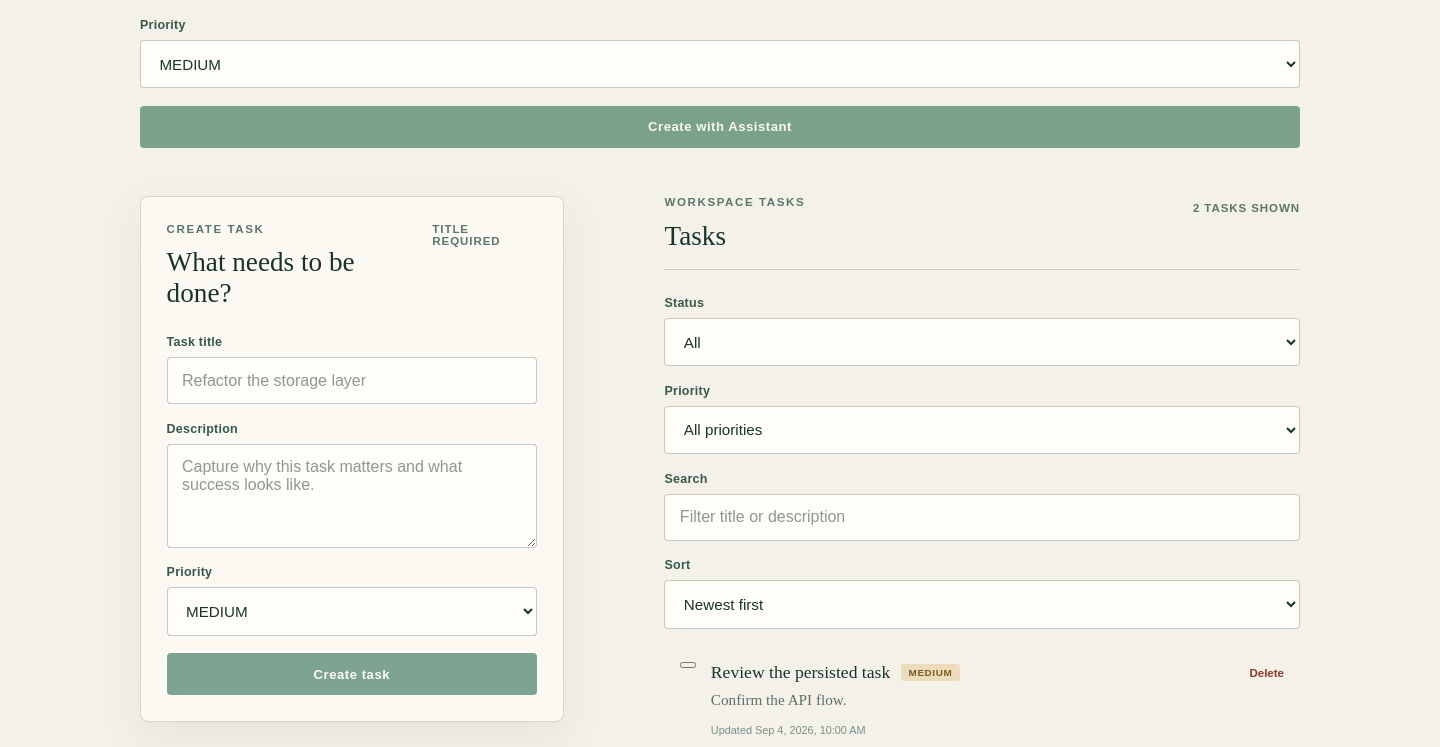
it: task workspace › sends filter, search, and sort changes to the backend
This screenshot has width=1440, height=747.
(page scrolled)
Expected: the heading "Review the persisted task" is shown, [711,662,890,683]
Select "Completed" in the dropdown named "Task status filter". click: (982, 342)
box: [664,318,1300,366]
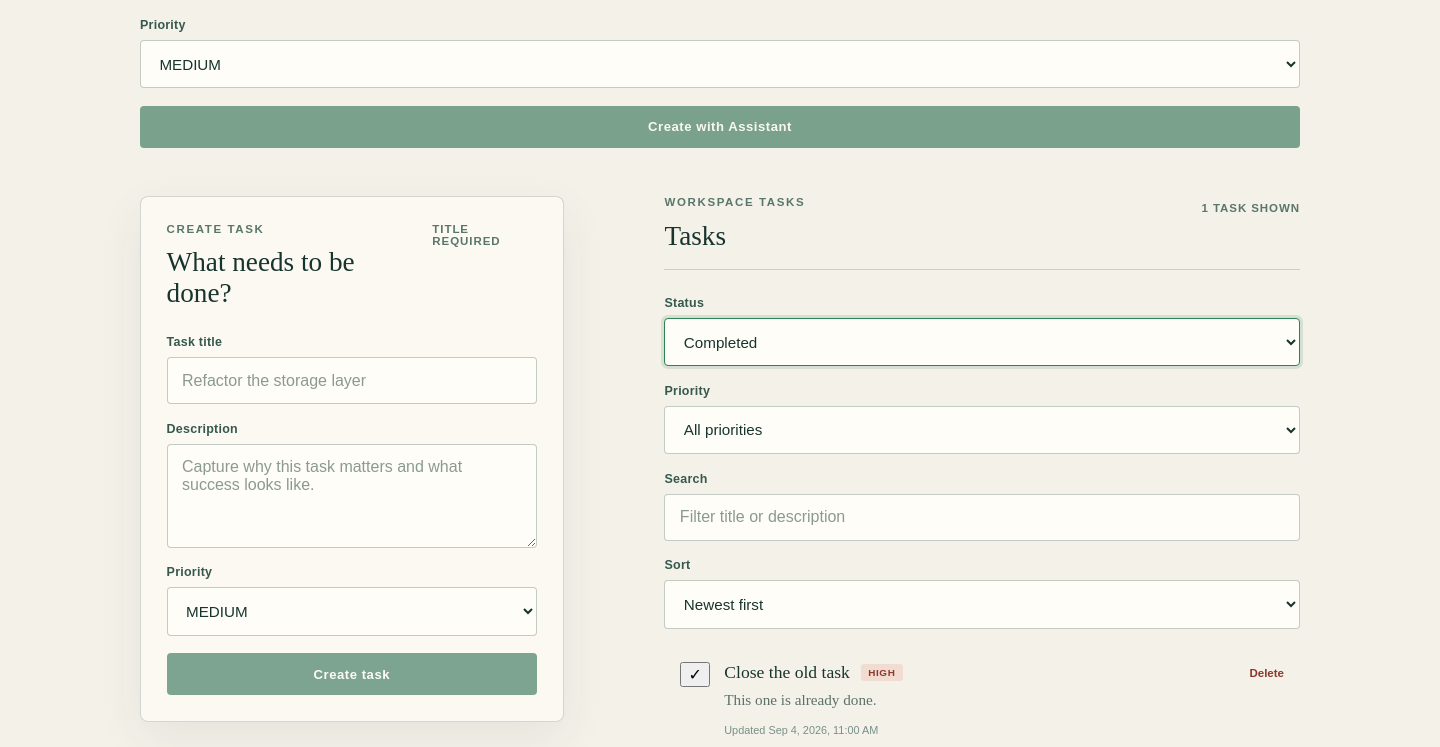
Expected: the heading "Close the old task" is shown, [724,662,850,683]
Select "HIGH" in the dropdown named "Task priority filter". click: (982, 430)
box: [664,406,1300,454]
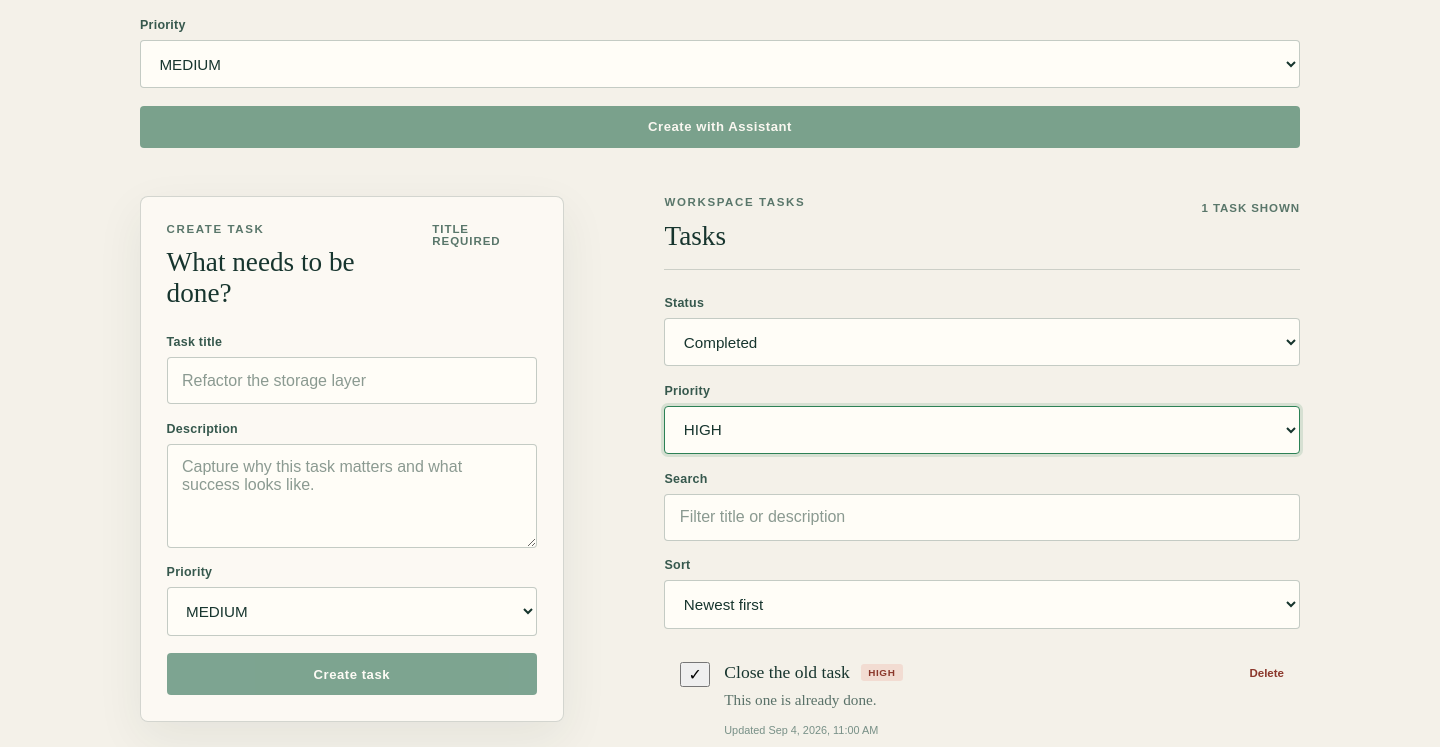
Expected: the heading "Close the old task" is shown, [724,662,850,683]
Select "Oldest first" in the dropdown named "Task sort order". click: (982, 604)
box: [664,580,1300,629]
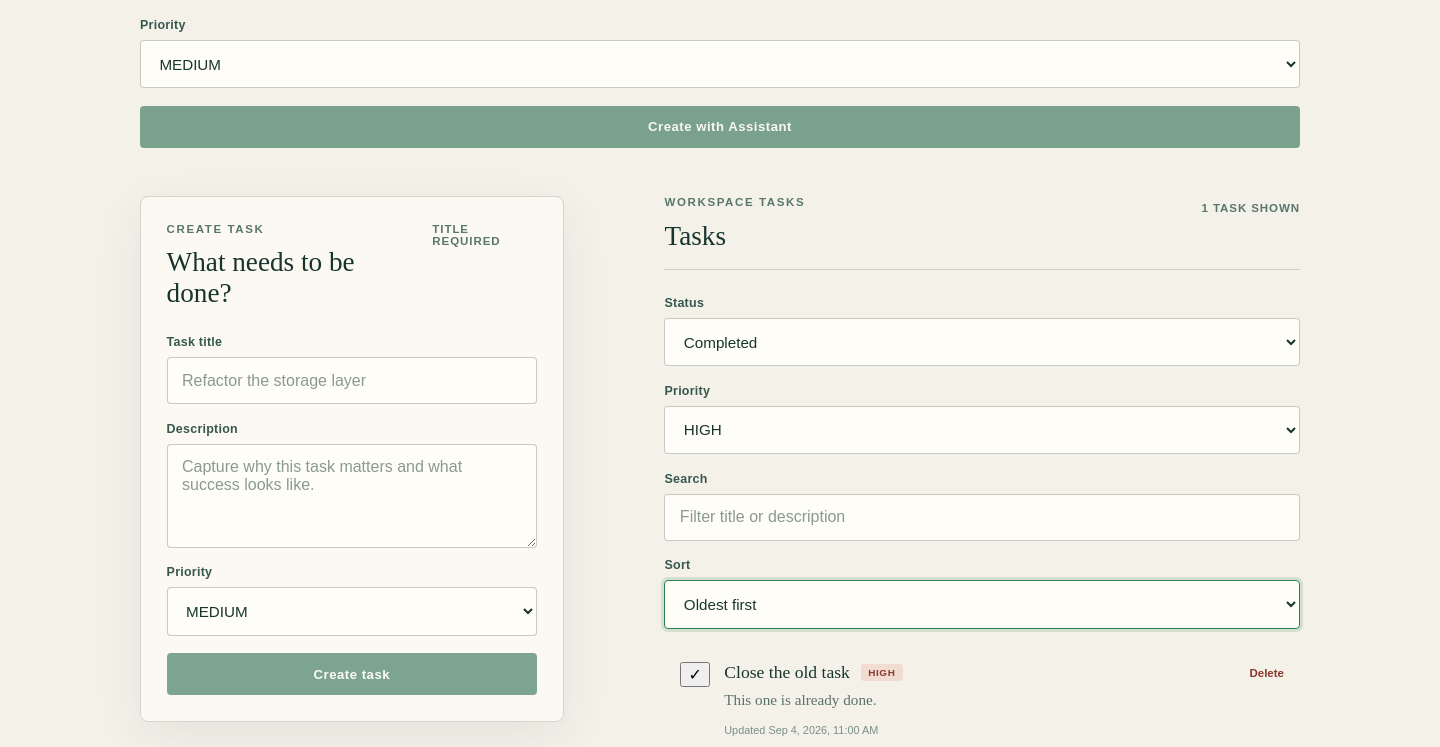
Expected: the heading "Close the old task" is shown, [724,662,850,683]
Type "missing" into the search field named "Search tasks". click: (982, 517)
box: [664,494,1300,541]
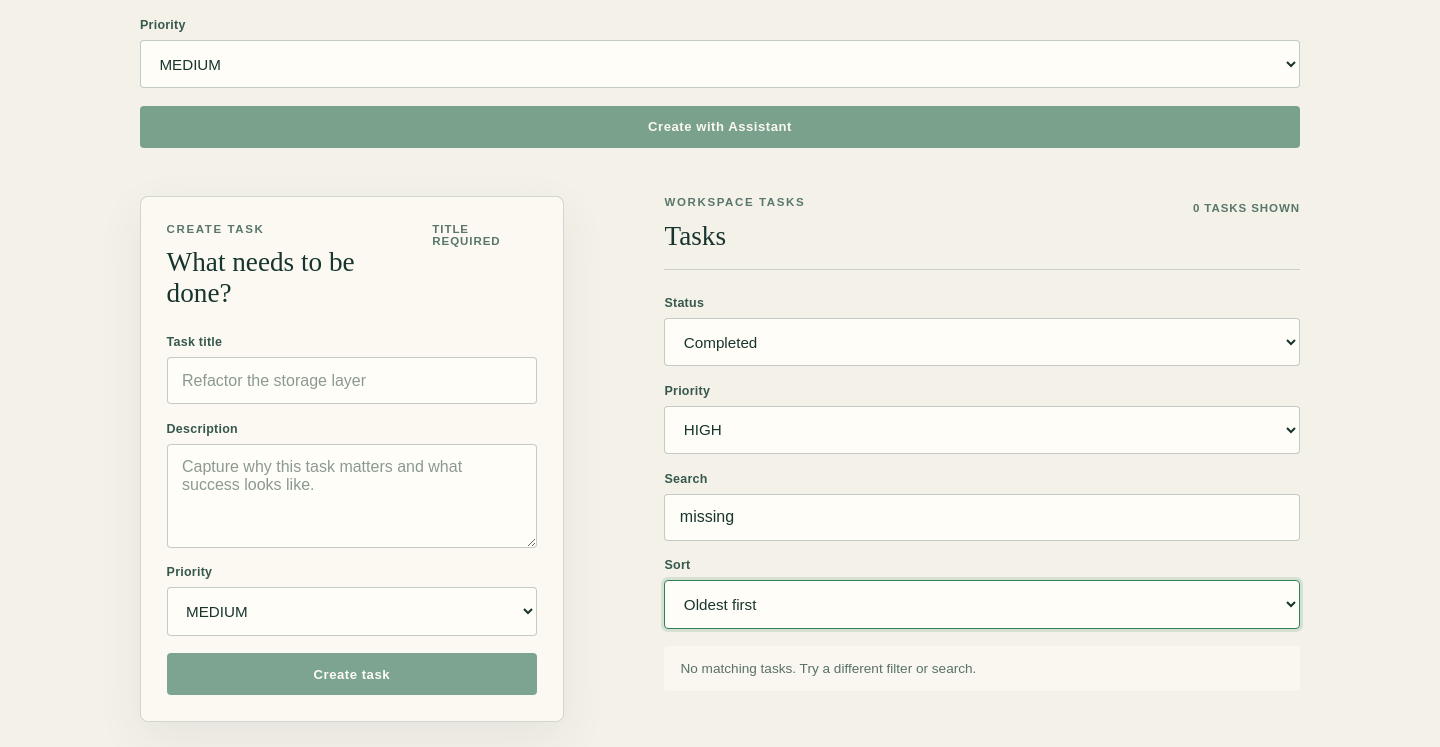
Now the text "No matching tasks. Try a different filter or search." is shown, box [664,646,1300,691]
